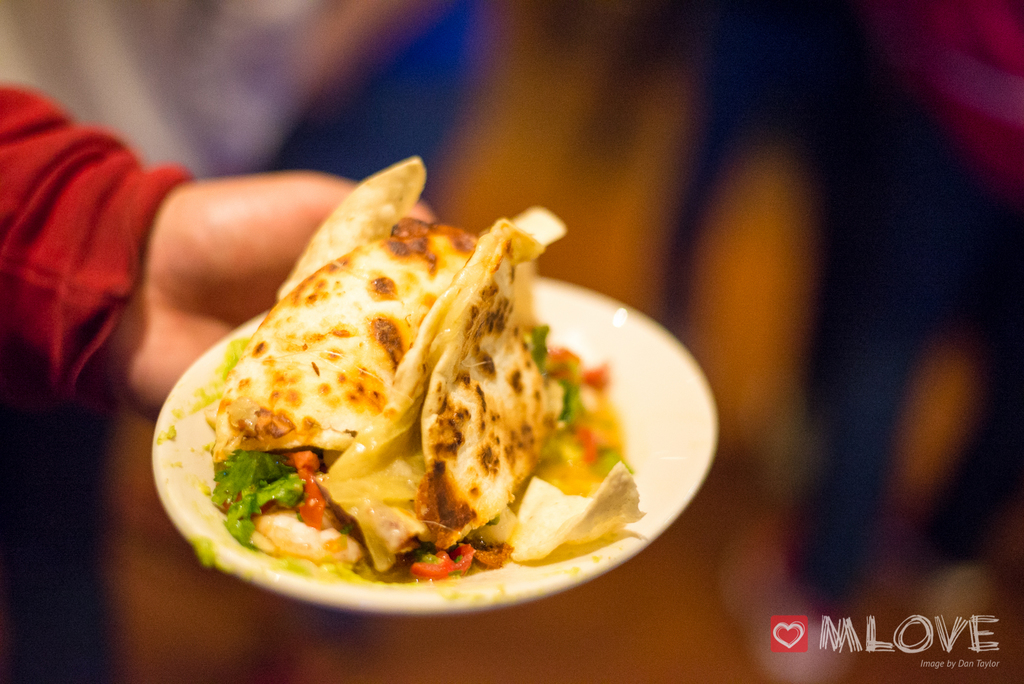taco: (125, 143, 687, 628)
